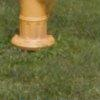Hydrant: (6, 0, 60, 58)
